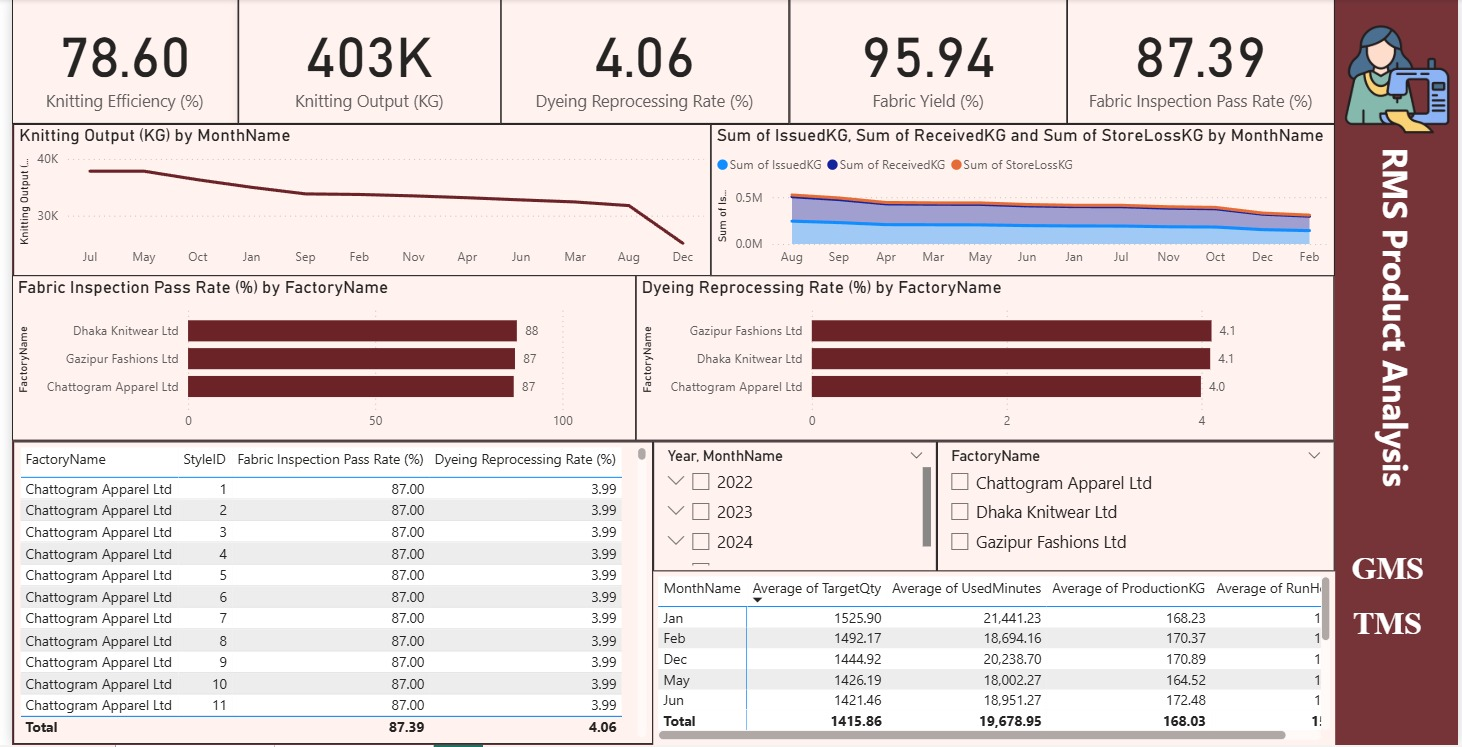

This screenshot's page, from the dashboard's own definition file:
{"tool":"powerbi","page":{"name":"TMS Dashboard","canvas":[1400,722],"ordinal":0},"visuals":[{"type":"card","fields":{"Values":["fact_knitting.Knitting Efficiency (%)"]},"box":[0,0,218.9,121.1],"z":0},{"type":"card","fields":{"Values":["fact_knitting.Knitting Output (KG)"]},"box":[218.9,0,254.3,121.1],"z":1000},{"type":"card","fields":{"Values":["fact_dyeing.Dyeing Reprocessing Rate (%)"]},"box":[473.2,0,278.8,121.1],"z":2000},{"type":"card","fields":{"Values":["fact_dyeing.Fabric Yield (%)"]},"box":[752,0,269,121.1],"z":3000},{"type":"card","fields":{"Values":["fact_fabric_inspection.Fabric Inspection Pass Rate (%)"]},"box":[1021.1,0,259.2,121.1],"z":4000},{"type":"lineChart","fields":{"Y":["fact_knitting.Knitting Output (KG)"],"Category":["dim_date.MonthName"]},"box":[1.3,120.8,675.3,147.5],"z":5000},{"type":"clusteredBarChart","fields":{"Y":["fact_dyeing.Dyeing Reprocessing Rate (%)"],"Category":["dim_factory.FactoryName"]},"box":[604.1,267.8,676.2,160.2],"z":6000},{"type":"stackedAreaChart","fields":{"Y":["Sum(fact_yarn_store.IssuedKG)","Sum(fact_yarn_store.ReceivedKG)","Sum(fact_yarn_store.StoreLossKG)"],"Category":["dim_date.MonthName"]},"box":[676.6,120.8,604.1,147.5],"z":7000},{"type":"barChart","fields":{"Y":["fact_fabric_inspection.Fabric Inspection Pass Rate (%)"],"Category":["dim_factory.FactoryName"]},"box":[0,267.8,604.1,160.2],"z":8000},{"type":"tableEx","fields":{"Values":["dim_factory.FactoryName","dim_style.StyleID","fact_fabric_inspection.Fabric Inspection Pass Rate (%)","fact_dyeing.Dyeing Reprocessing Rate (%)"]},"box":[1.3,428.6,619.4,292.5],"z":9000},{"type":"slicer","fields":{"Values":["dim_date.Year","dim_date.MonthName"]},"box":[620.6,428.6,274.7,125.9],"z":10000},{"type":"slicer","fields":{"Values":["dim_factory.FactoryName"]},"box":[895.1,428,385.2,126],"z":11000},{"type":"actionButton","box":[1281.2,521.4,100.4,53.2],"z":14000},{"type":"image","box":[1280.7,20.3,119.5,114.5],"z":14001},{"type":"actionButton","box":[1282.4,574.7,100.4,52],"z":14002},{"type":"actionButton","box":[1284.5,134.8,110.6,347.2],"z":14003},{"type":"pivotTable","fields":{"Values":["Avg(fact_production_daily.TargetQty)","Avg(fact_production_daily.UsedMinutes)","Avg(fact_knitting.ProductionKG)","Avg(fact_knitting.RunHours)"],"Rows":["dim_date.MonthName"]},"box":[620.6,554.5,660.1,167.9],"z":14004}]}

Visuals, with their boxes in screenshot pixels (x1, y1, x2, y2), scaled from the page's 1400x722 canvas onto the 1462x747 screenshot:
card - fact_knitting.Knitting Efficiency (%): l=0, t=0, r=229, b=125
card - fact_knitting.Knitting Output (KG): l=229, t=0, r=494, b=125
card - fact_dyeing.Dyeing Reprocessing Rate (%): l=494, t=0, r=785, b=125
card - fact_dyeing.Fabric Yield (%): l=785, t=0, r=1066, b=125
card - fact_fabric_inspection.Fabric Inspection Pass Rate (%): l=1066, t=0, r=1337, b=125
lineChart - fact_knitting.Knitting Output (KG) x dim_date.MonthName: l=1, t=125, r=707, b=278
clusteredBarChart - fact_dyeing.Dyeing Reprocessing Rate (%) x dim_factory.FactoryName: l=631, t=277, r=1337, b=443
stackedAreaChart - Sum(fact_yarn_store.IssuedKG) x Sum(fact_yarn_store.ReceivedKG): l=707, t=125, r=1337, b=278
barChart - fact_fabric_inspection.Fabric Inspection Pass Rate (%) x dim_factory.FactoryName: l=0, t=277, r=631, b=443
tableEx - dim_factory.FactoryName x dim_style.StyleID: l=1, t=443, r=648, b=746
slicer - dim_date.Year x dim_date.MonthName: l=648, t=443, r=935, b=574
slicer - dim_factory.FactoryName: l=935, t=443, r=1337, b=573
actionButton: l=1338, t=539, r=1443, b=594
image: l=1337, t=21, r=1461, b=139
actionButton: l=1339, t=595, r=1444, b=648
actionButton: l=1341, t=139, r=1457, b=499
pivotTable - Avg(fact_production_daily.TargetQty) x Avg(fact_production_daily.UsedMinutes): l=648, t=574, r=1337, b=746
